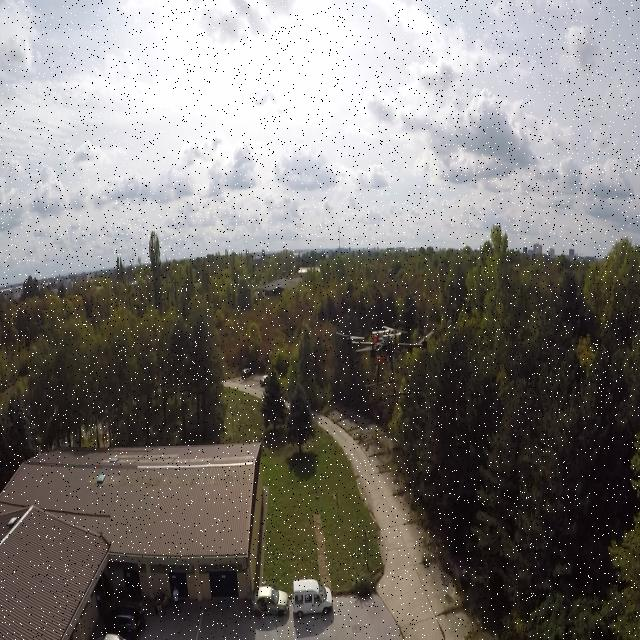UAV: (335, 321, 435, 399)
